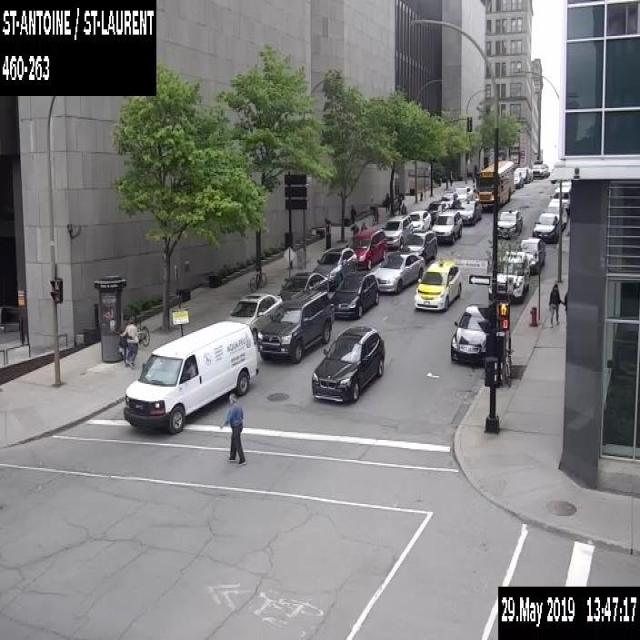bus: (474, 159, 514, 209)
pedestrian: (220, 390, 246, 462), (119, 316, 138, 366), (547, 283, 560, 328), (119, 318, 132, 362), (560, 288, 567, 314), (396, 192, 401, 213), (384, 191, 389, 212), (350, 222, 358, 234), (350, 204, 355, 222), (448, 168, 452, 186), (400, 201, 406, 213), (361, 221, 366, 229)
vehicle: (123, 319, 258, 433), (256, 289, 334, 362), (311, 324, 384, 402), (226, 291, 282, 343), (449, 304, 491, 363), (414, 258, 461, 309), (330, 270, 378, 318), (371, 250, 424, 293), (488, 249, 529, 299), (278, 270, 328, 310), (312, 246, 357, 288), (347, 227, 386, 269), (402, 228, 436, 264), (432, 208, 462, 243), (382, 213, 412, 247), (519, 237, 545, 270), (532, 212, 558, 242), (496, 208, 522, 237), (544, 197, 566, 227), (456, 200, 482, 224), (549, 185, 570, 212), (407, 209, 431, 231), (427, 199, 449, 223), (440, 191, 458, 208), (454, 185, 472, 201), (515, 166, 528, 182), (531, 164, 544, 178), (513, 170, 523, 188), (540, 163, 548, 175), (527, 168, 533, 181), (558, 179, 571, 185)
